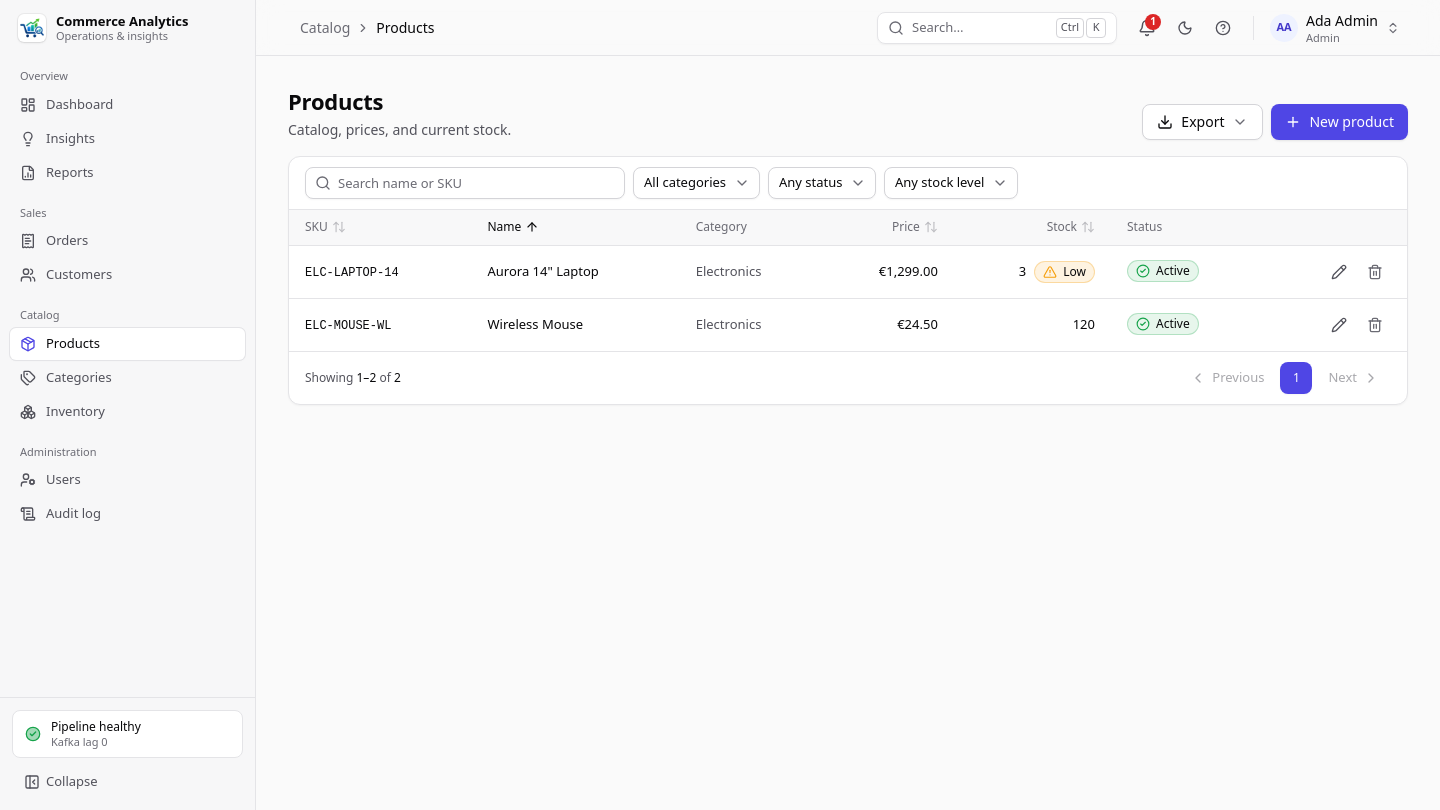
Test case: products › explains why a product with history cannot be deleted
Click the button named "Delete ELC-LAPTOP-14".
click(1375, 272)  # box [1359,256,1391,288]
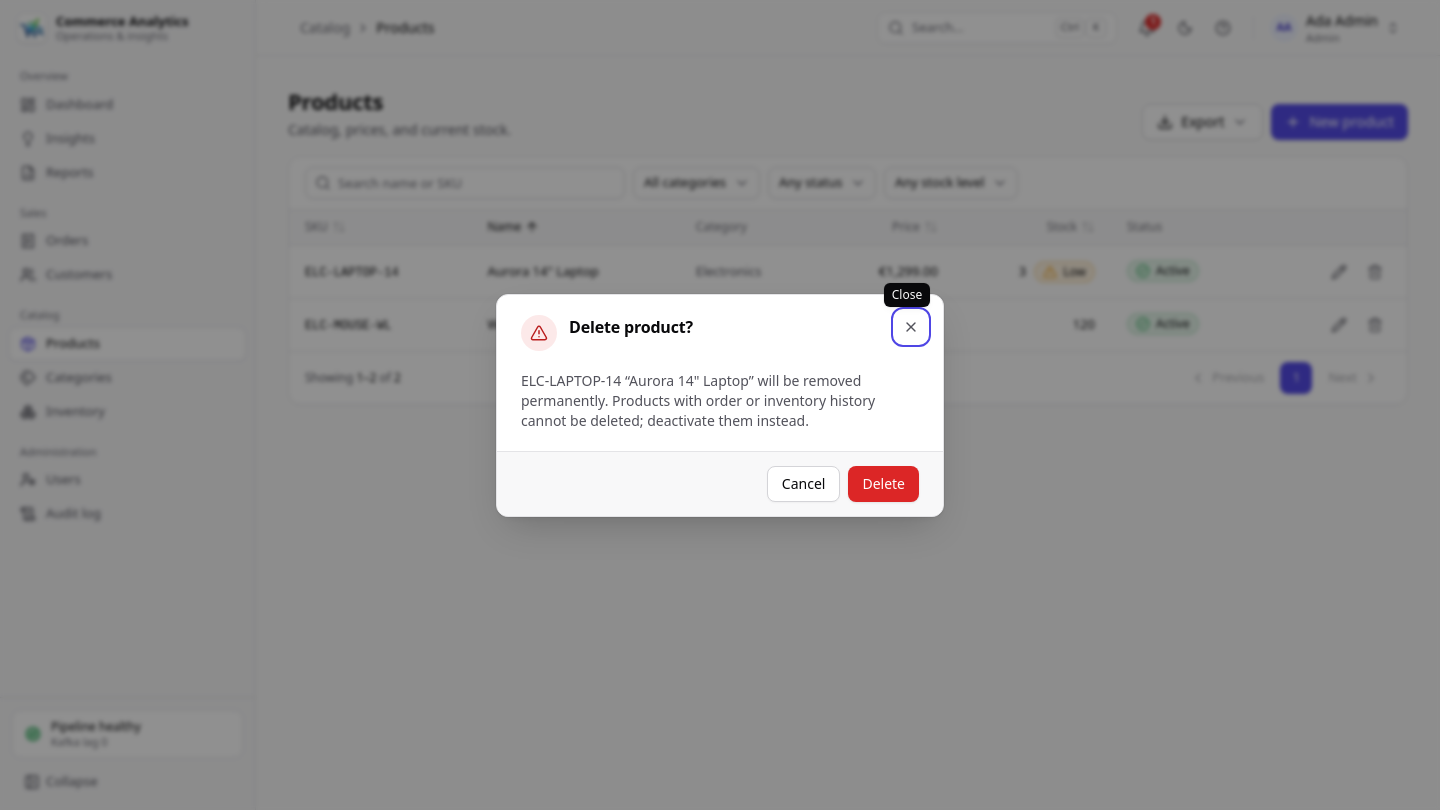
Click the button "Delete".
click(884, 484)  # box [848,466,919,502]
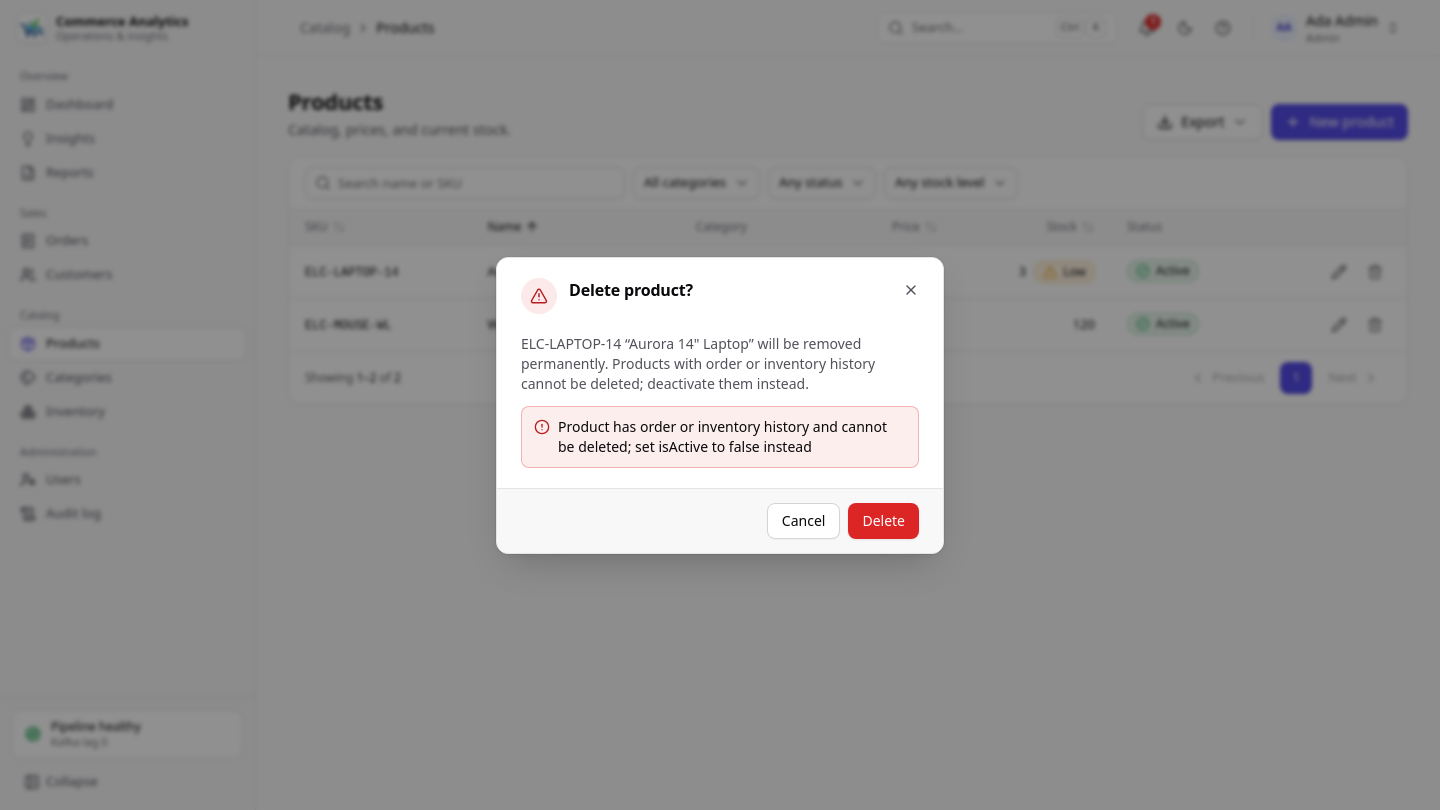
Expected: the dialog is shown, [496,256,944,554]
Expected: the message shows "set isActive to false", [558,416,887,456]
